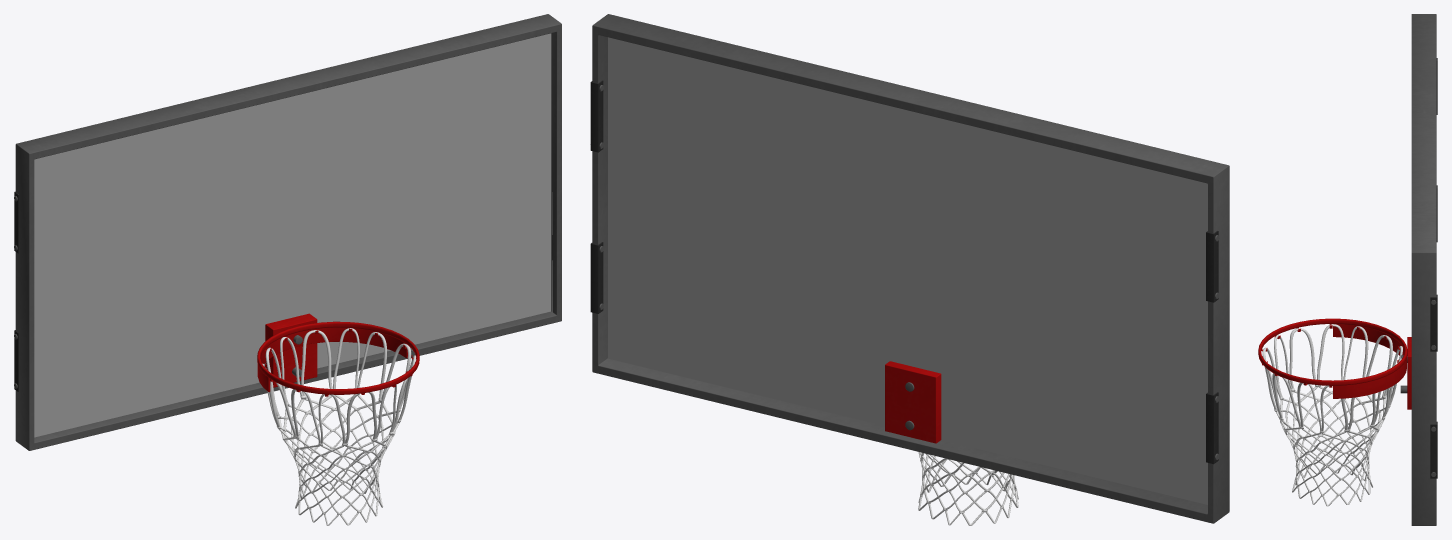
Rendered from basketball_hoop.FBX.
3 views of the same model, side by side, from view 1: azimuth 30°, elevation 25°; view 2: azimuth 150°, elevation 25°; view 3: azimuth 270°, elevation 25° (orthographic). The views are drawn at different scales.
Visible parts, largest first — view 1: Plane02; view 2: Plane02; view 3: Plane02.
Boxes of the visible parts, x1,y1,x2,y2 form: Plane02: (14,14,561,525); Plane02: (590,14,1229,525); Plane02: (1258,14,1437,525).
Bounding box in the file's own units: 55.37 × 38.27 × 17.48.
3 materials, 1 textured.
